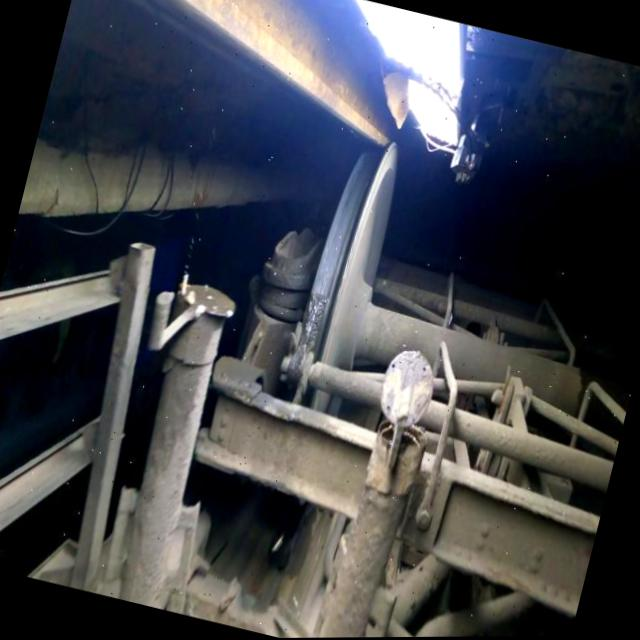Cracks-Scratches: (332, 182, 374, 316)
Wheel: (311, 140, 398, 366)
